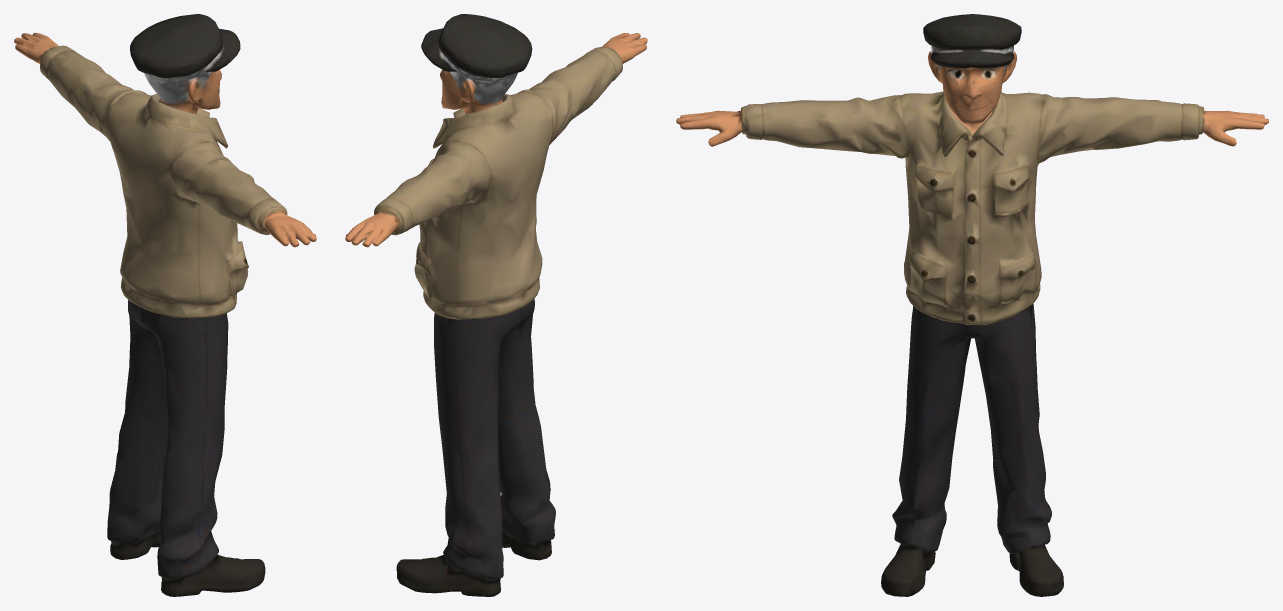
File: oldM.glb
3 views of the same model, side by side, from view 1: azimuth 30°, elevation 25°; view 2: azimuth 150°, elevation 25°; view 3: azimuth 270°, elevation 25° (orthographic). The views are drawn at different scales.
Parts seen in each view (by area): view 1: tripo_node_33f87f84-2472-49b8-8c43-c0c450ceef55; view 2: tripo_node_33f87f84-2472-49b8-8c43-c0c450ceef55; view 3: tripo_node_33f87f84-2472-49b8-8c43-c0c450ceef55.
Boxes of the visible parts, x1=… form: tripo_node_33f87f84-2472-49b8-8c43-c0c450ceef55: x1=14, y1=14, x2=316, y2=596; tripo_node_33f87f84-2472-49b8-8c43-c0c450ceef55: x1=345, y1=14, x2=647, y2=596; tripo_node_33f87f84-2472-49b8-8c43-c0c450ceef55: x1=676, y1=14, x2=1268, y2=596.
Size of the model in its own units: 0.2028 by 0.9995 by 0.9523.
1 material, 1 textured.
